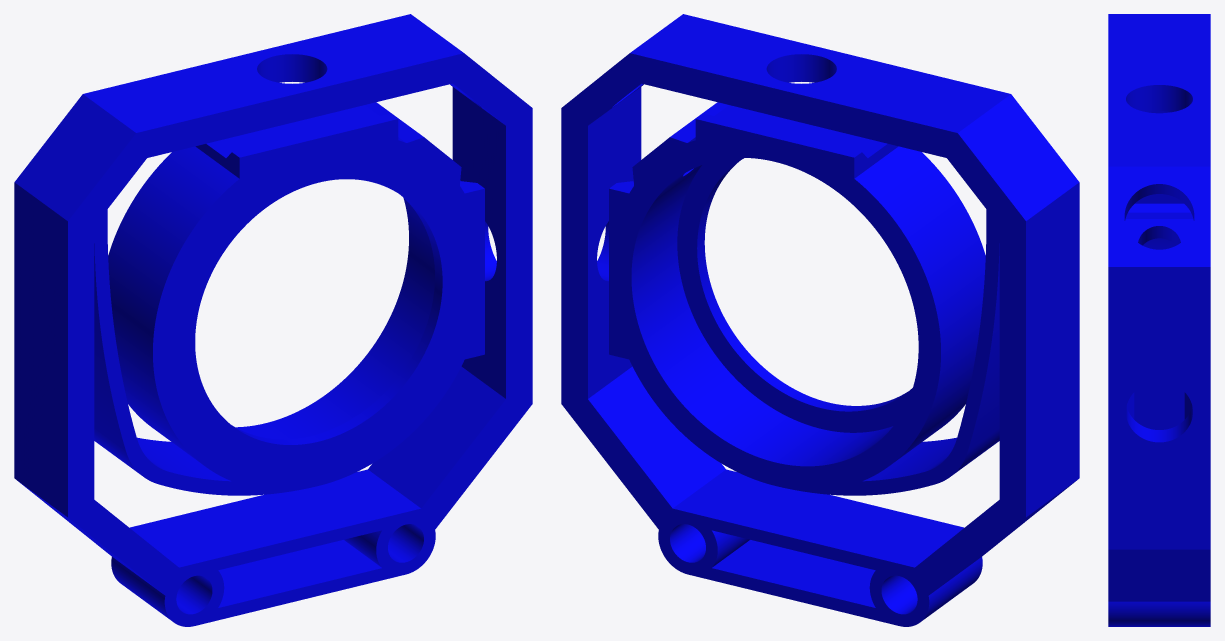
File: V5_One Inch Lens Mount (V5).obj
3 renders of one model, left to right at view 1: azimuth 30°, elevation 25°; view 2: azimuth 150°, elevation 25°; view 3: azimuth 270°, elevation 25°, orthographic. The views are drawn at different scales.
Parts seen in each view (by area): view 1: Solid1:18; view 2: Solid1:18; view 3: Solid1:18.
Part boxes in pixels (bbox=[...]): Solid1:18: bbox=[14, 14, 532, 626]; Solid1:18: bbox=[561, 14, 1079, 626]; Solid1:18: bbox=[1108, 14, 1210, 626].
Bounding box in the file's own units: 43.94 × 45.83 × 8.75.
